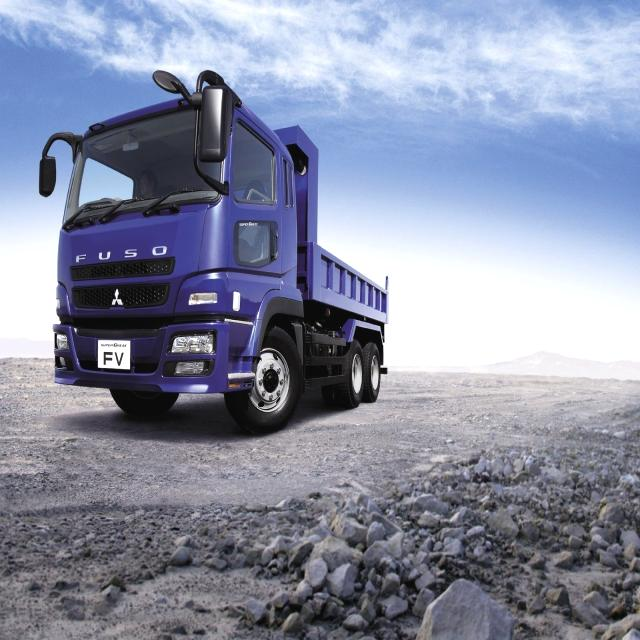truck: (41, 67, 392, 428)
